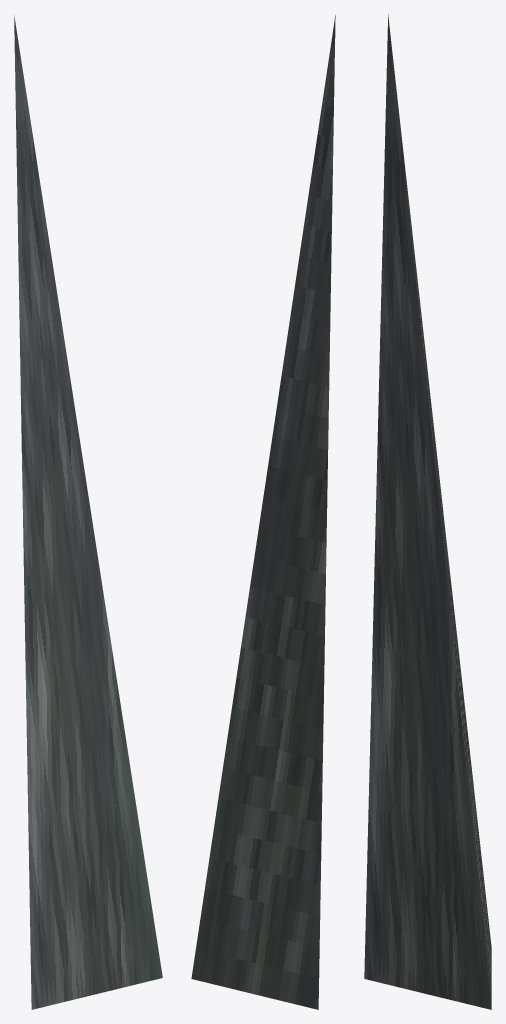
Rendered from spike.glb.
3 renders of one model, left to right at view 1: azimuth 30°, elevation 25°; view 2: azimuth 210°, elevation 25°; view 3: azimuth 330°, elevation 25°, orthographic. The views are drawn at different scales.
Parts seen in each view (by area): view 1: Cone; view 2: Cone; view 3: Cone.
Part boxes in pixels (left/top/right/bottom): Cone: left=14, top=14, right=162, bottom=1009; Cone: left=191, top=15, right=335, bottom=1009; Cone: left=364, top=14, right=491, bottom=1009.
Bounding box in the file's own units: 1.11 × 7.91 × 0.96.
1 material, 1 textured.
